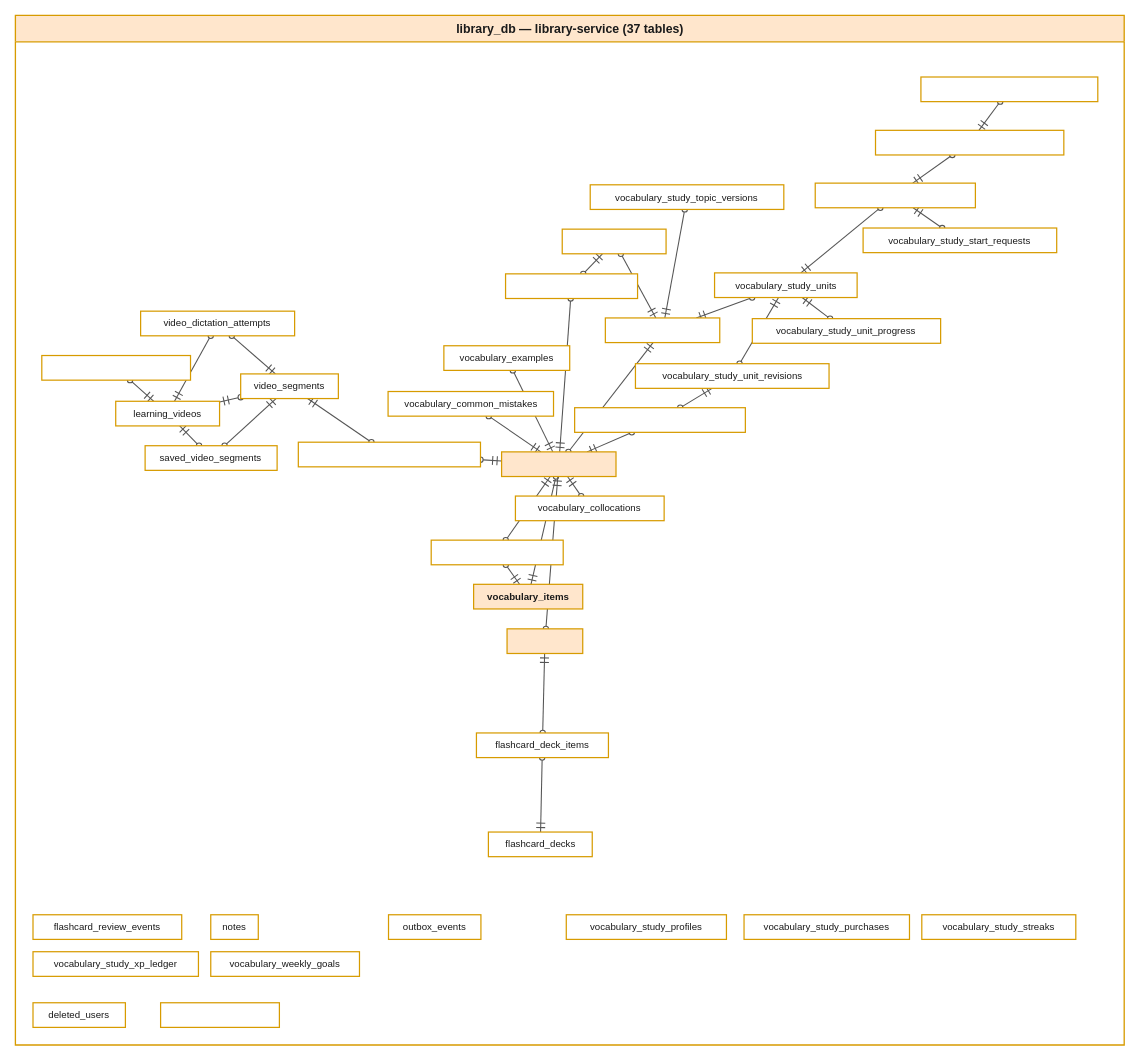
Some shapes in this 1140 by 1061 pixel diagram are drawn without their labels. The centre of each missing label's shape, as x and y in pixels:
"flashcards" goes at pixel 544 641.
"user_deletion_jobs" goes at pixel 220 1015.
"video_learning_progress" goes at pixel 116 367.
"video_segment_lexical_entries" goes at pixel 389 454.
"vocabulary_relations" goes at pixel 496 552.
"vocabulary_senses" goes at pixel 558 464.
"vocabulary_set_items" goes at pixel 571 286.
"vocabulary_sets" goes at pixel 613 241.
"vocabulary_study_attempt_steps" goes at pixel 969 142.
"vocabulary_study_attempts" goes at pixel 895 195.
"vocabulary_study_submissions" goes at pixel 1009 89.
"vocabulary_study_unit_words" goes at pixel 660 420.
"vocabulary_topics" goes at pixel 662 330.
